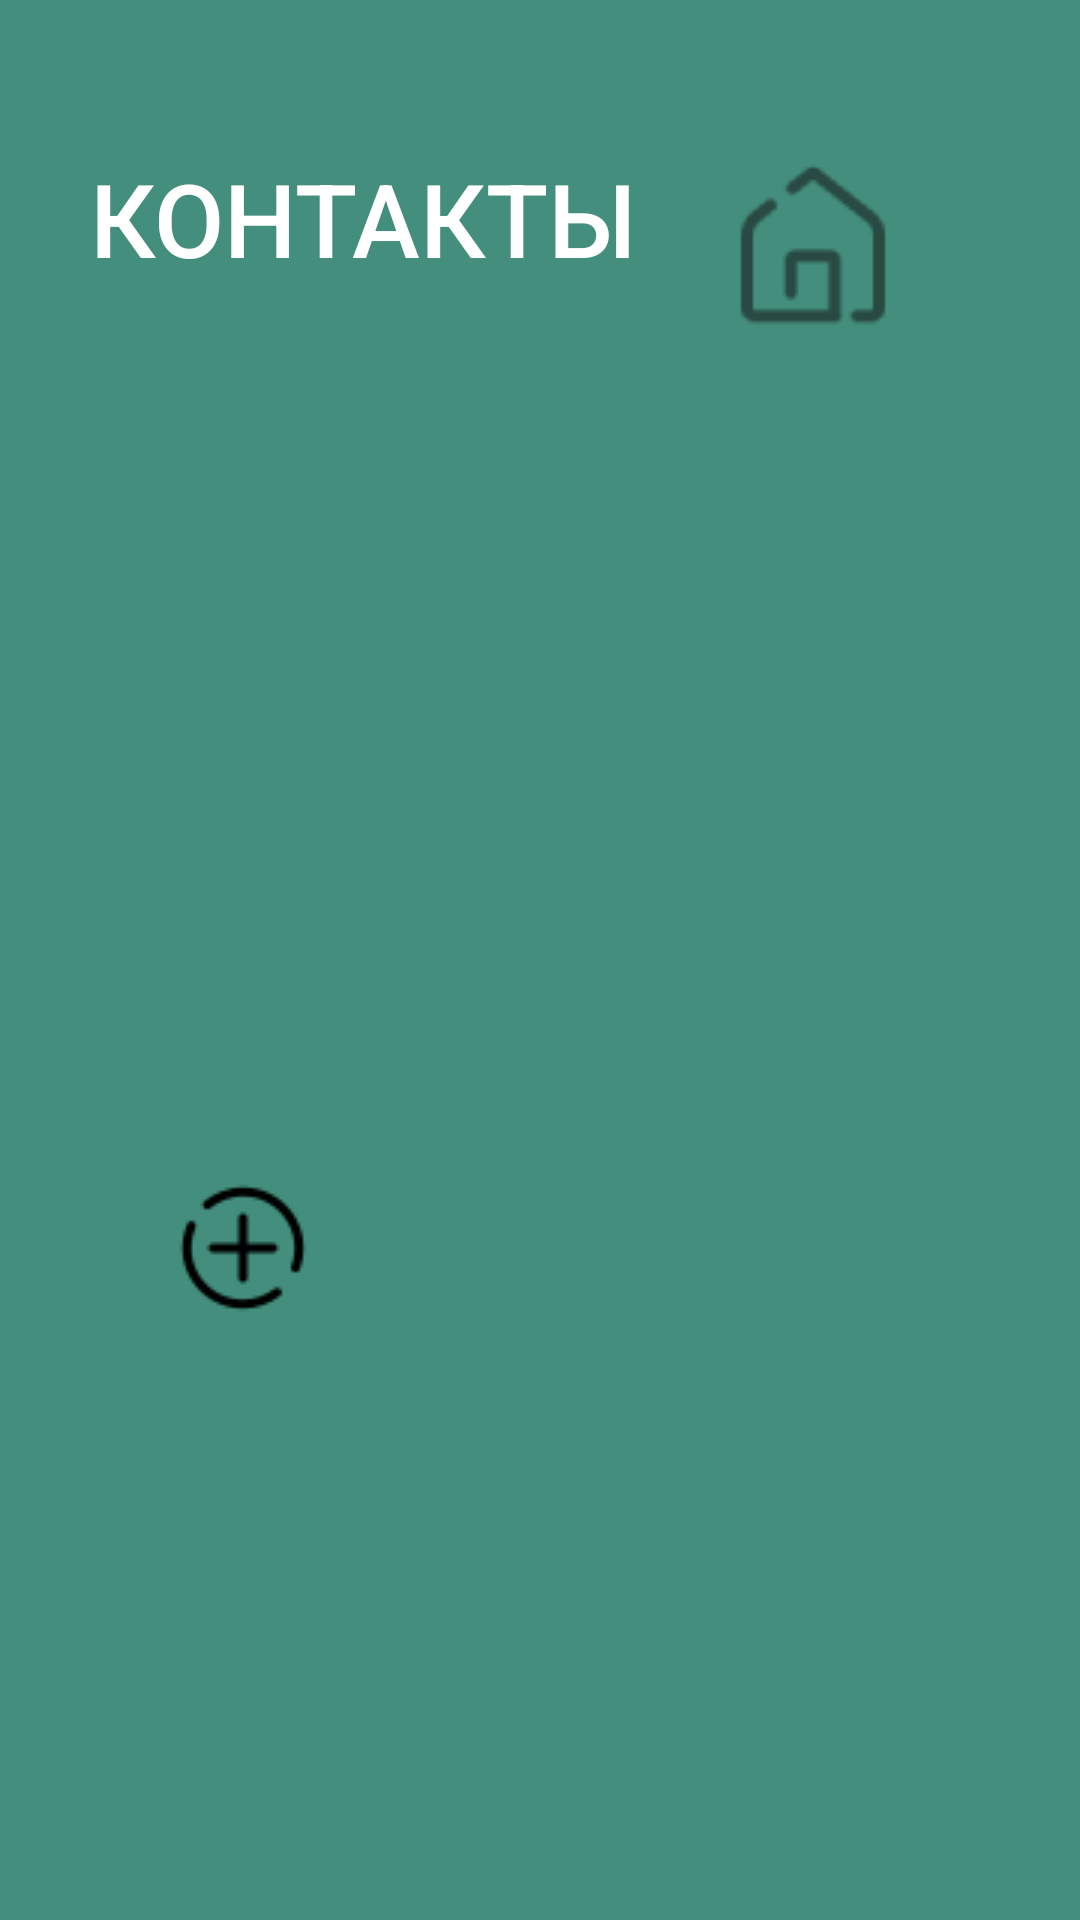

Locate icon controls on the screen. Image size 1080×1920, boxes as (x1, y1, x2, y2).
home: (741, 167, 885, 323)
plus: (181, 1186, 305, 1310)
